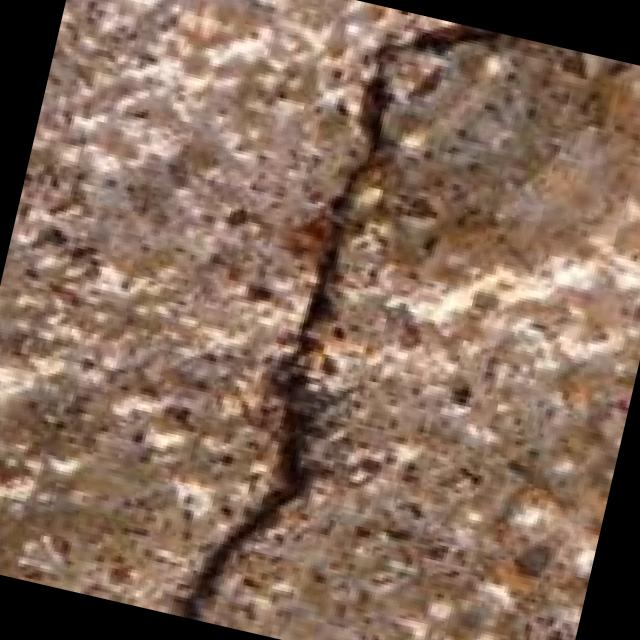crack: (118, 0, 504, 640)
